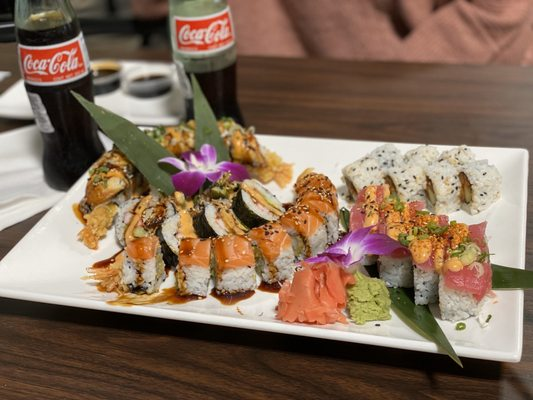curry: (344, 270, 392, 327)
